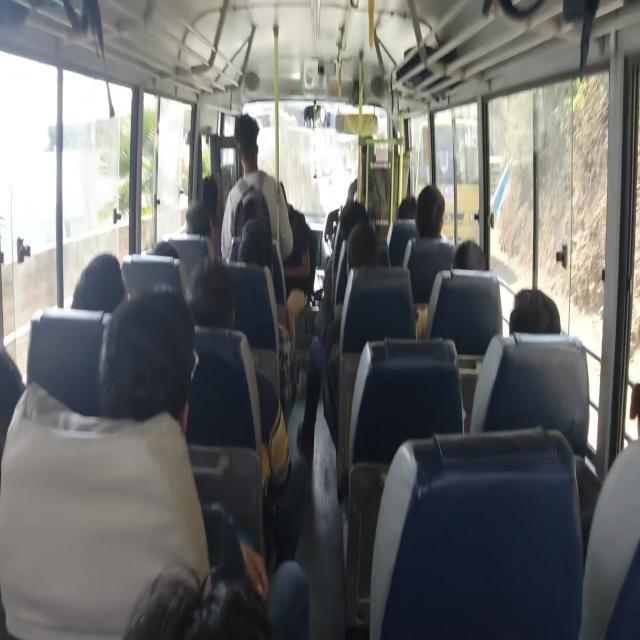person: (133, 543, 344, 640), (100, 299, 196, 456), (87, 253, 142, 332), (496, 294, 561, 344), (341, 220, 387, 289), (0, 351, 32, 445), (414, 179, 456, 242), (233, 112, 268, 162), (186, 203, 222, 251), (456, 248, 497, 286), (394, 187, 424, 234), (335, 202, 373, 238), (150, 238, 180, 282), (198, 177, 227, 217), (625, 378, 640, 442)
